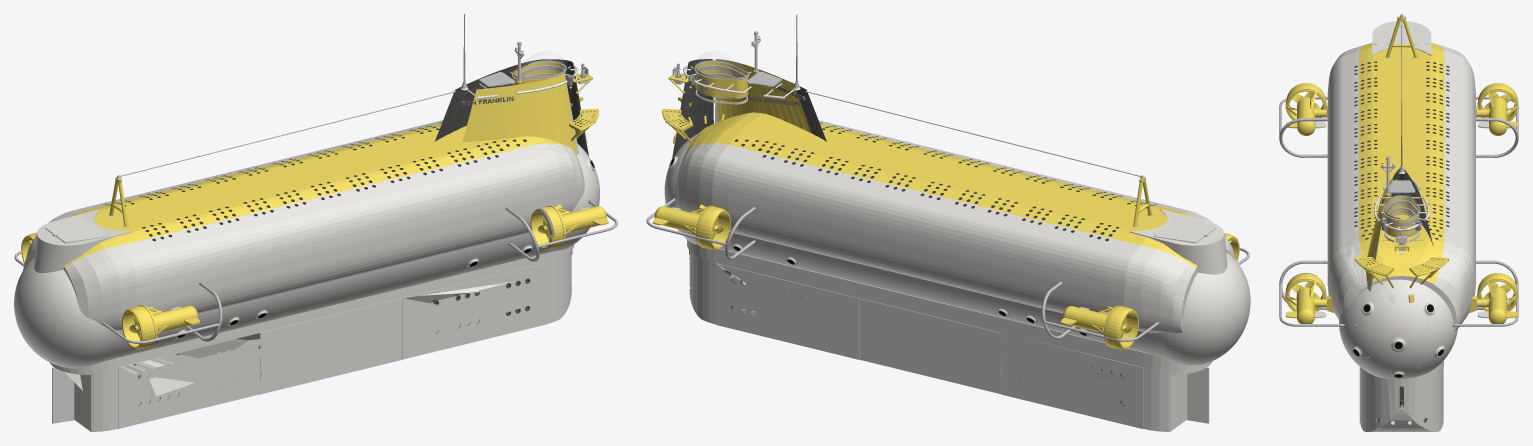
The model's file is ben-franklin-web.glb.
The picture shows the model from 3 angles, left to right: view 1: azimuth 30°, elevation 25°; view 2: azimuth 150°, elevation 25°; view 3: azimuth 270°, elevation 25°; orthographic projection. The views are drawn at different scales.
Visible parts, largest first — view 1: MainHull; view 2: MainHull; view 3: MainHull.
Part boxes in pixels (<box>): MainHull: <box>14,14,617,431</box>; MainHull: <box>646,14,1250,431</box>; MainHull: <box>1279,14,1518,431</box>.
Bounding box in the file's own units: 17.85 × 9.25 × 6.82.
7 materials, 7 textured.
